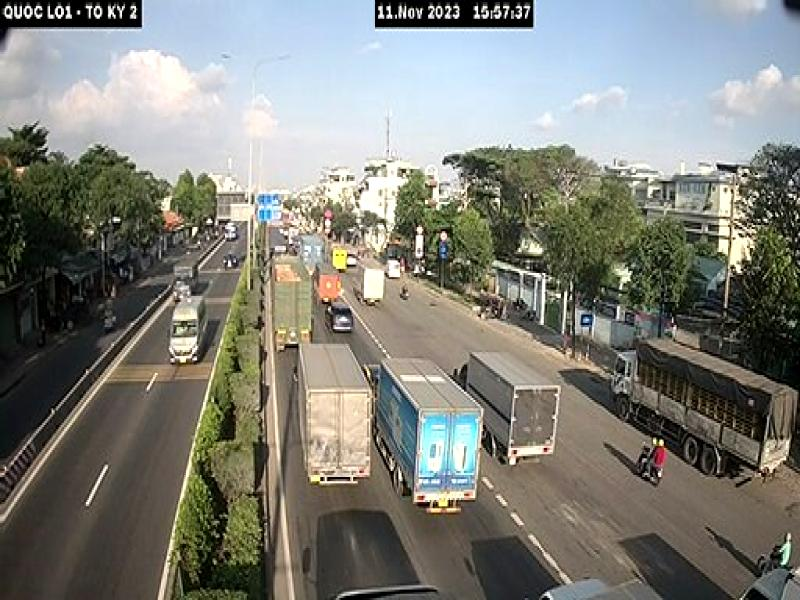truck: (608, 333, 800, 484), (371, 355, 485, 517), (452, 349, 564, 462), (294, 339, 373, 491), (266, 245, 312, 342)
